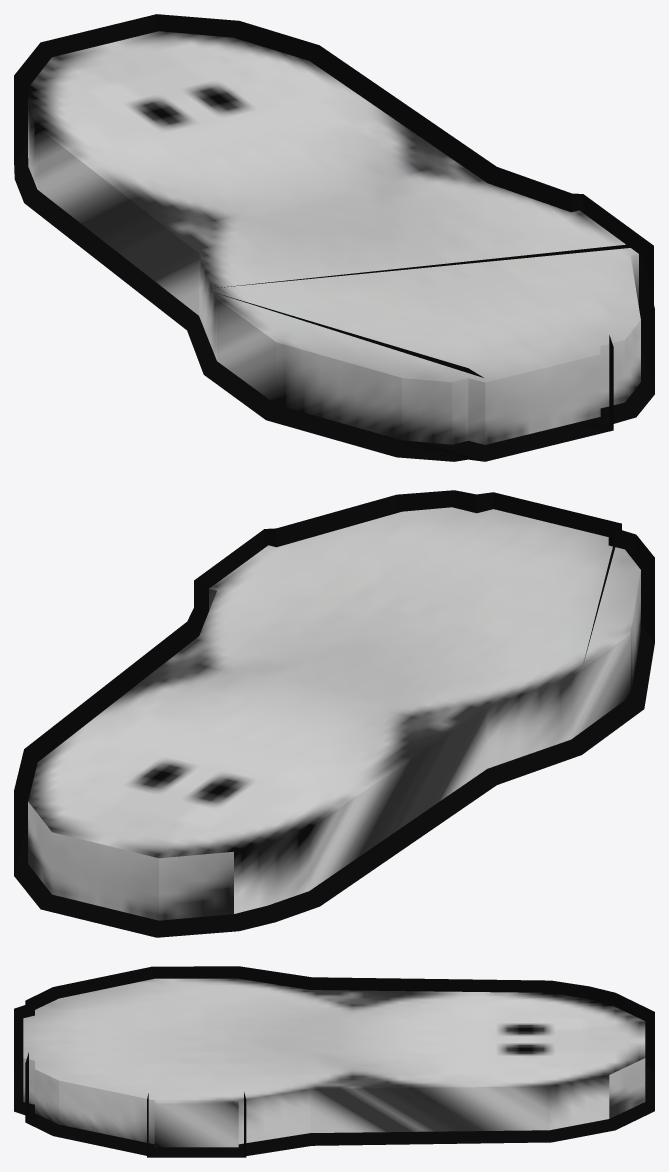
The model's file is Building_Snowman_Things_Building_Art_Snowman_Snowman_C.glb.
3 renders of one model, top to bottom at view 1: azimuth 30°, elevation 25°; view 2: azimuth 150°, elevation 25°; view 3: azimuth 270°, elevation 25°, orthographic. The views are drawn at different scales.
Visible parts, largest first — view 1: Body, Outline; view 2: Body, Outline; view 3: Body, Outline.
Boxes of the visible parts, x1,y1,x2,y2 form: Body: (28, 31, 640, 444); Outline: (14, 14, 654, 461); Body: (28, 507, 640, 920); Outline: (14, 490, 654, 937); Body: (23, 978, 645, 1147); Outline: (14, 966, 654, 1157).
Bounding box in the file's own units: 0.7284 × 0.1669 × 1.49.
2 materials, 1 textured.
